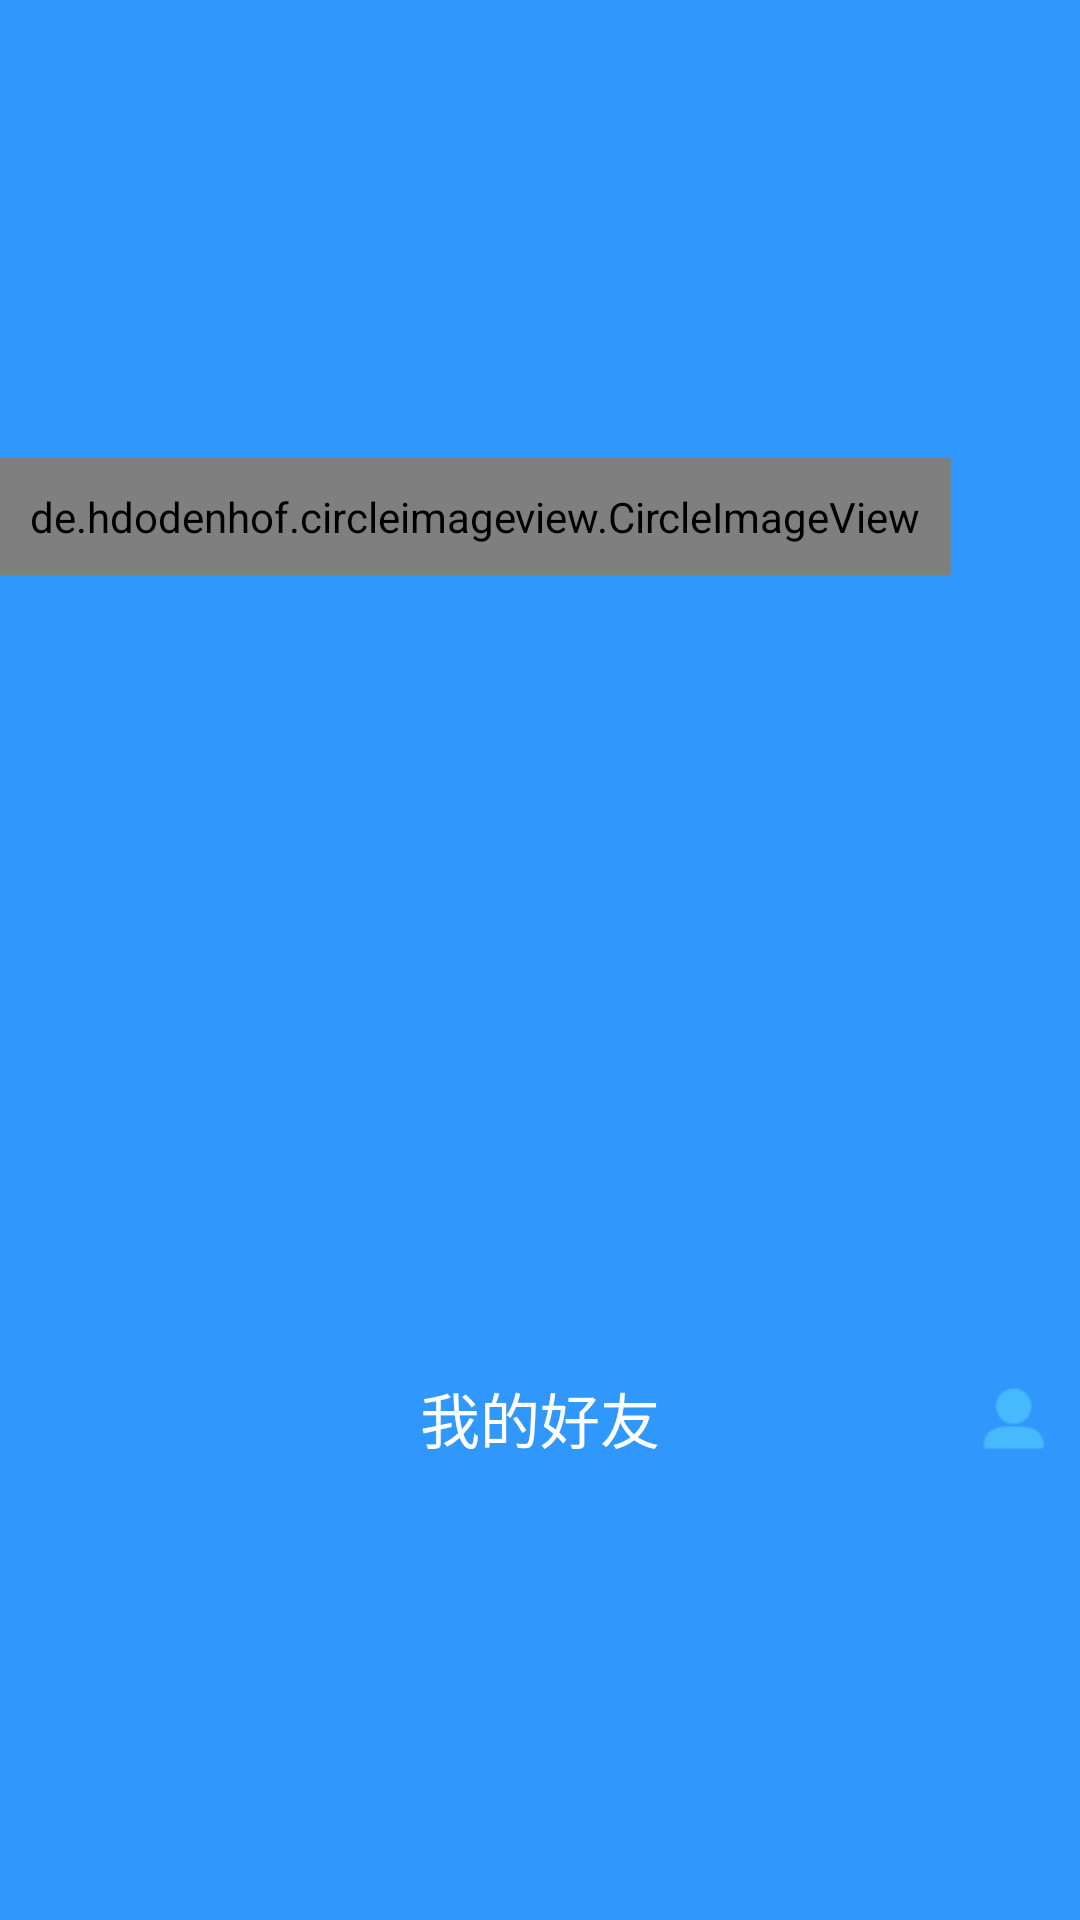

Icons on this 1080 × 1920 Android screen, each with its box as region(x1, y1, x2, y2):
skin tab contact: region(984, 1389, 1043, 1448)
